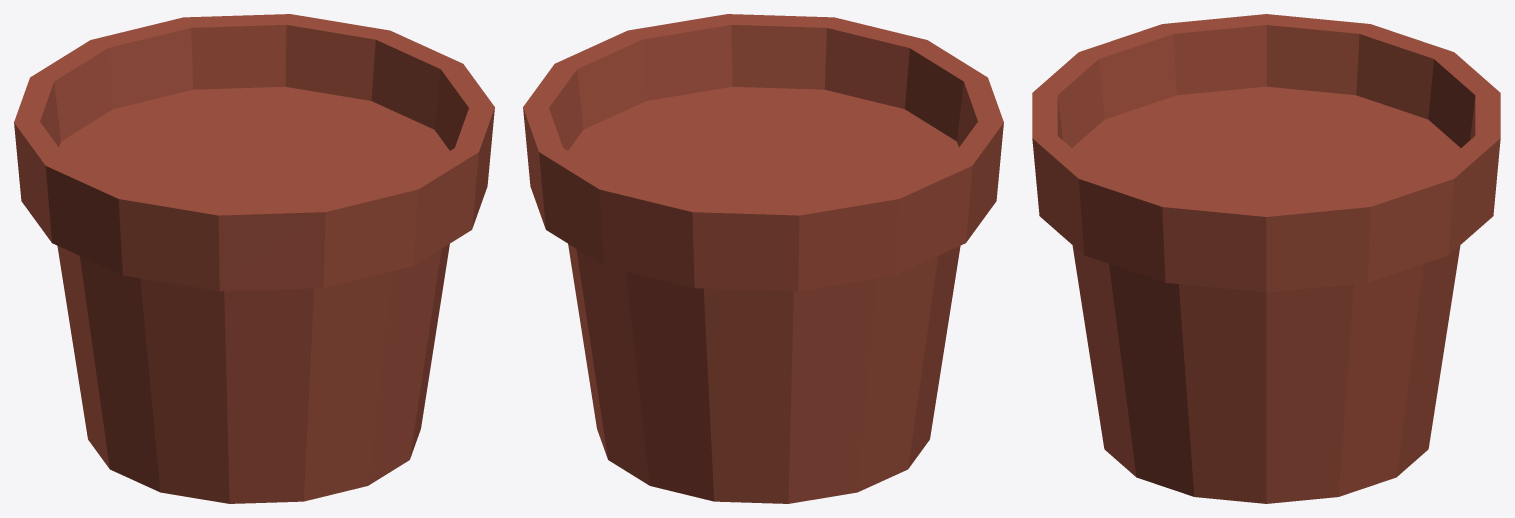
File: Pot_L2.fbx
The picture shows the model from 3 angles, left to right: view 1: azimuth 30°, elevation 25°; view 2: azimuth 150°, elevation 25°; view 3: azimuth 270°, elevation 25°; orthographic projection.
Parts seen in each view (by area): view 1: L2_Pot; view 2: L2_Pot; view 3: L2_Pot.
Part boxes in pixels (box(x1,y1,x2,y2)): L2_Pot: box(14, 14, 494, 503); L2_Pot: box(523, 14, 1003, 503); L2_Pot: box(1032, 14, 1500, 503).
Size of the model in its own units: 26 by 19 by 25.35.
